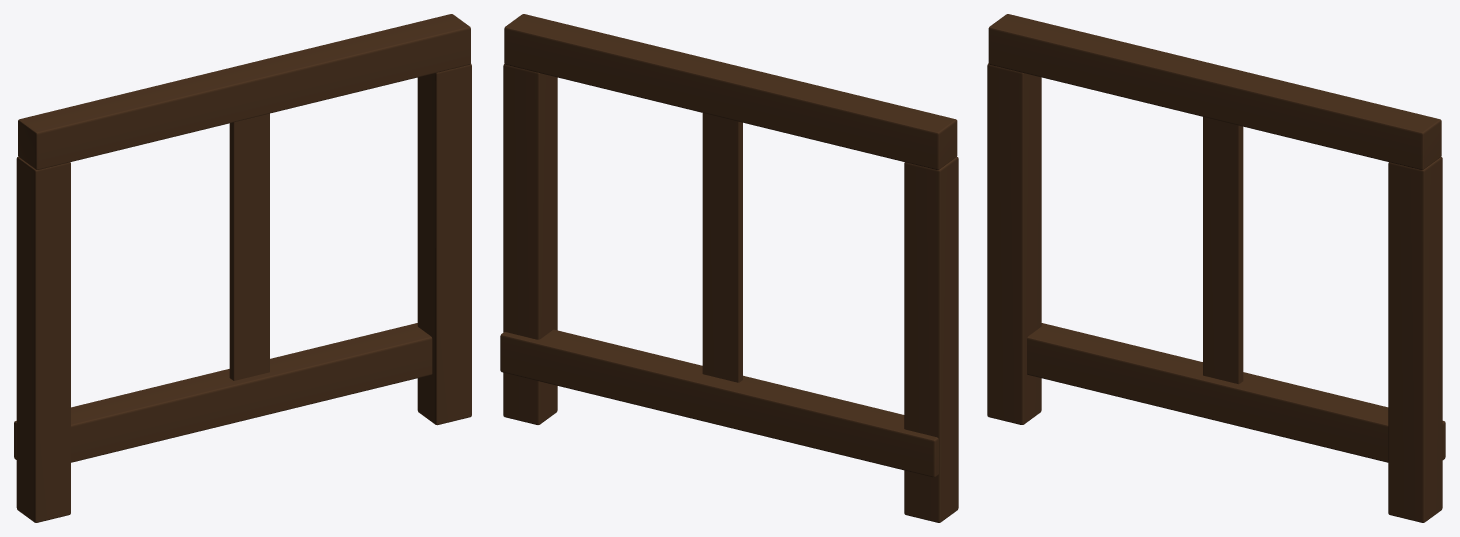
File: FM_H_SH_02_Window_Frame_02_001.fbx
3 renders of one model, left to right at view 1: azimuth 30°, elevation 25°; view 2: azimuth 150°, elevation 25°; view 3: azimuth 330°, elevation 25°, orthographic.
Parts seen in each view (by area): view 1: FM_H_Small_house_02_Window_Frame_02_001; view 2: FM_H_Small_house_02_Window_Frame_02_001; view 3: FM_H_Small_house_02_Window_Frame_02_001.
Boxes of the visible parts, x1,y1,x2,y2 form: FM_H_Small_house_02_Window_Frame_02_001: [14, 14, 471, 522]; FM_H_Small_house_02_Window_Frame_02_001: [500, 14, 958, 522]; FM_H_Small_house_02_Window_Frame_02_001: [987, 14, 1445, 522].
Size of the model in its own units: 1.61 by 1.37 by 0.1489.
